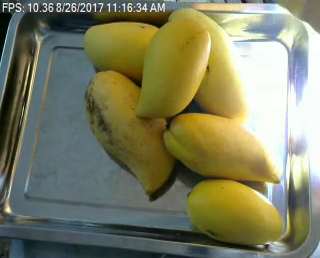Mango: (85, 70, 178, 194), (168, 6, 248, 119), (163, 112, 281, 185), (135, 17, 210, 116), (187, 179, 282, 244), (85, 22, 159, 80)
